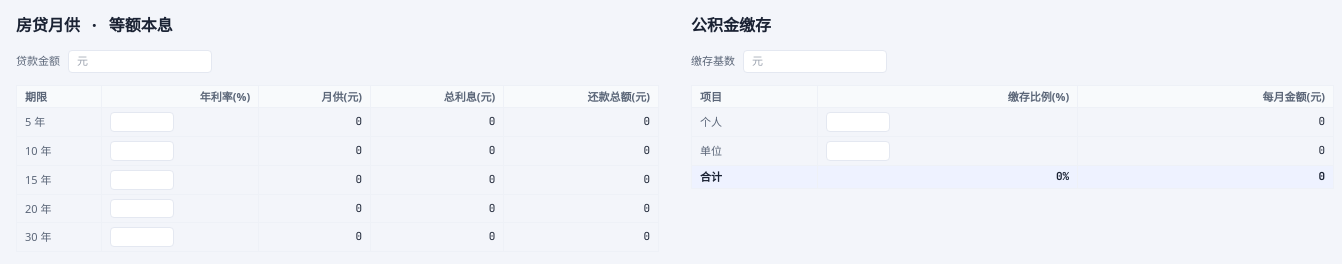
Test: CalculatorView › 只改 5 年利率 → 仅该行走等额本息，未填利率的 10 年按本金/月数
Type "1000000" into the number field with test id "calc-loan-amount".
click(140, 61); type("1000000")  # box left=68, top=50, right=212, bottom=72
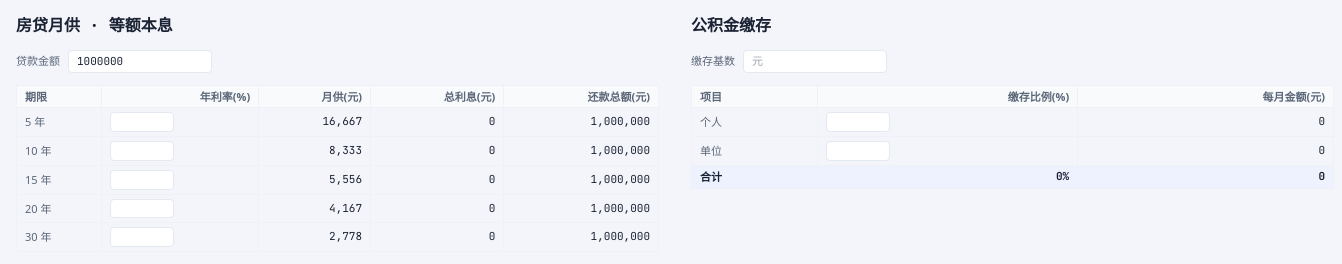
Type "3.5" into the number field with test id "calc-rate-5".
click(142, 122); type("3.5")  # box left=110, top=112, right=174, bottom=132
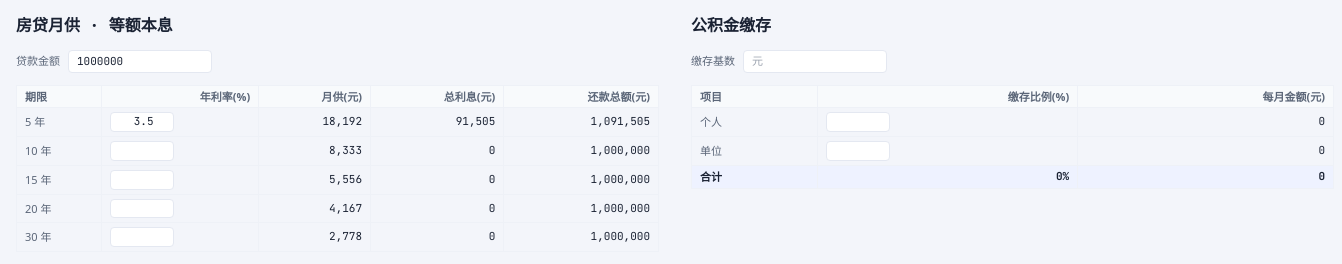
Expected: the cell with test id "calc-mort-10-payment" reads "8,333", left=329, top=143, right=362, bottom=157
Expected: the cell with test id "calc-mort-5-payment" reads "18,192", left=322, top=114, right=362, bottom=128
